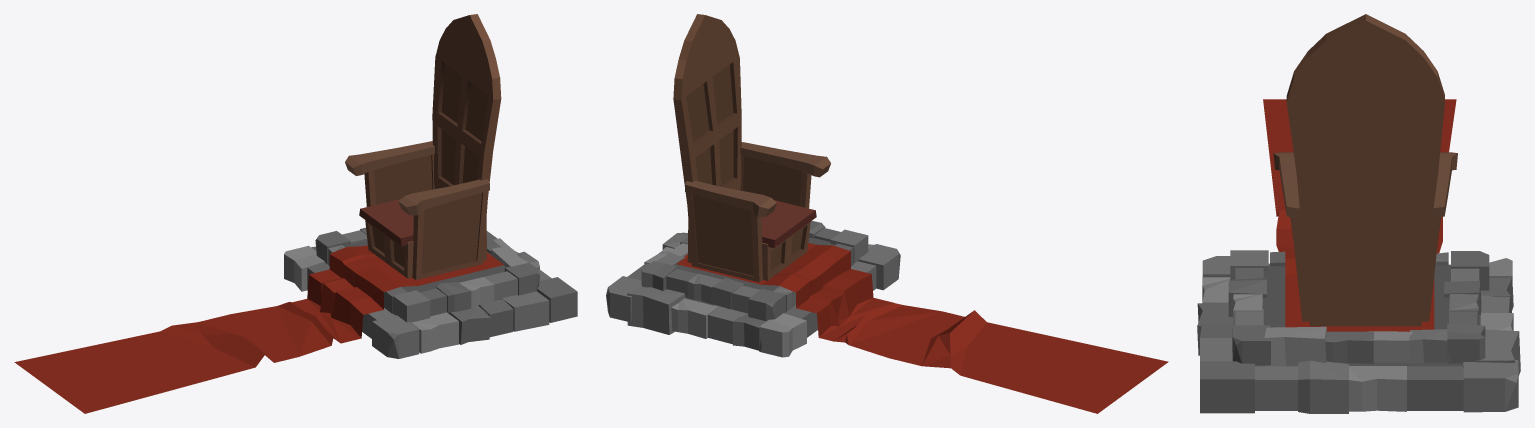
The model's file is Throne.fbx.
3 views of the same model, side by side, from view 1: azimuth 30°, elevation 25°; view 2: azimuth 150°, elevation 25°; view 3: azimuth 270°, elevation 25° (orthographic). The views are drawn at different scales.
Visible parts, largest first — view 1: polySurface152; view 2: polySurface152; view 3: polySurface152.
Part boxes in pixels (<box>): polySurface152: <box>14,14,577,413</box>; polySurface152: <box>606,14,1168,413</box>; polySurface152: <box>1197,14,1520,413</box>.
Size of the model in its own units: 9.8 by 5.45 by 4.26.
